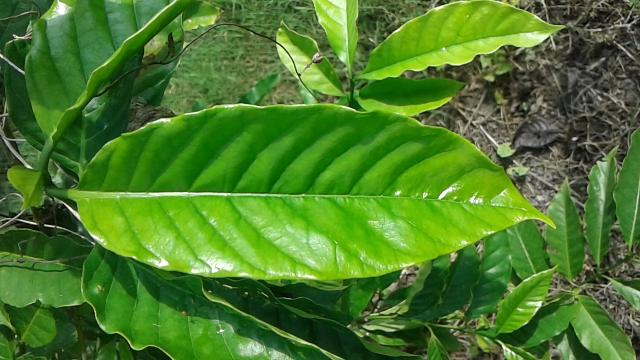healthy: (78, 106, 559, 278)
